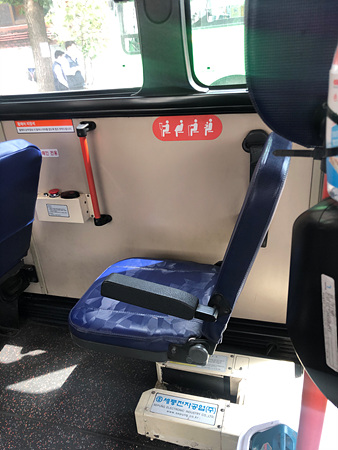seat: (79, 133, 288, 349)
